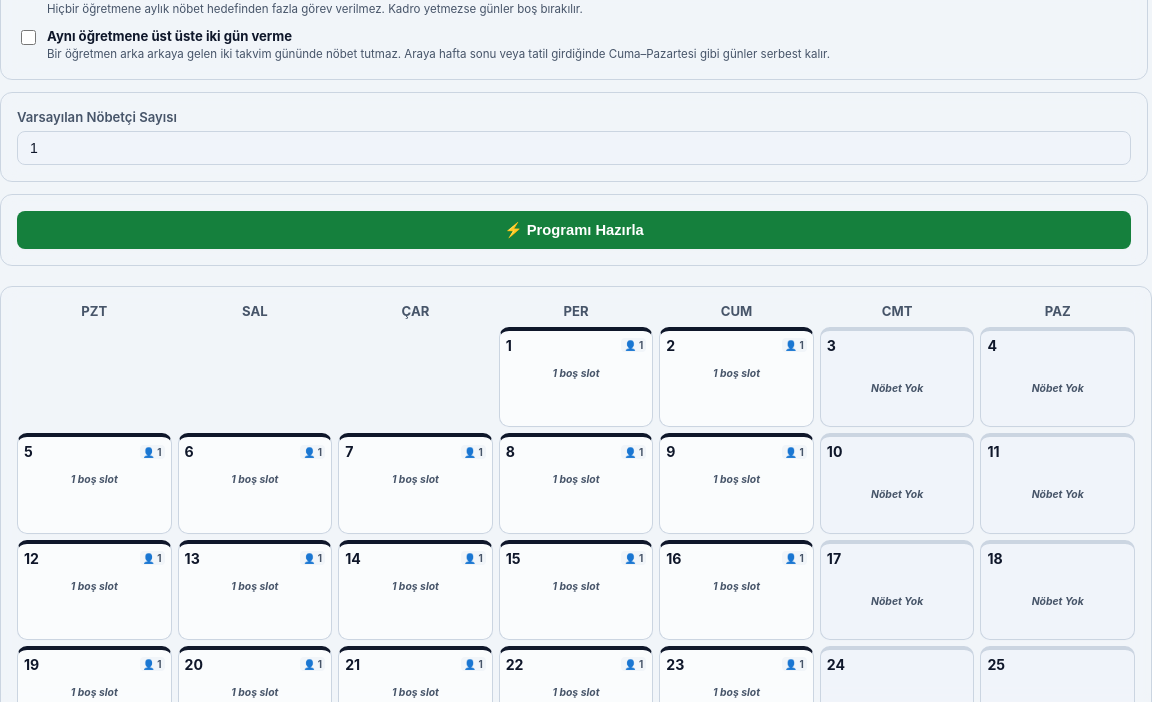
Test: Step3Solver › clicking an active day cell opens the day configurator sidebar with the pinned CustomSelect using variant='pinned'
The image size is (1152, 702).
(page scrolled)
# Oct 1, 2026 is a Thursday (active weekday, no holiday configured)
Click the text "1" at (509, 345), box top-left (506, 337), bottom-right (512, 354)
(page scrolled)
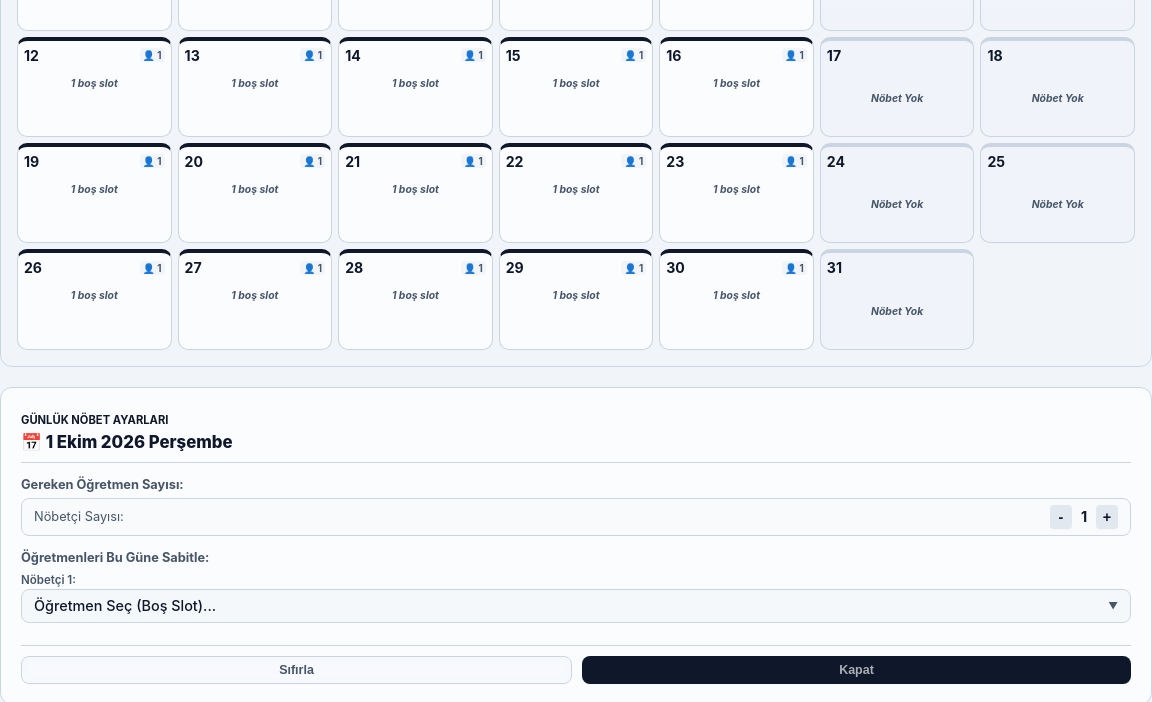
Check: the text "Günlük Nöbet Ayarları" is shown, box top-left (21, 413), bottom-right (168, 427)
Check: the text "Nöbetçi 1:" is shown, box top-left (21, 573), bottom-right (76, 587)
